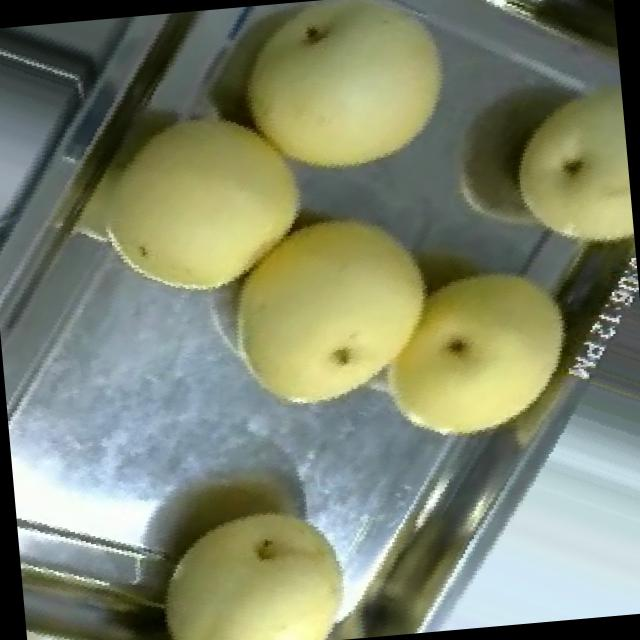Fruit: (200, 179, 457, 429), (74, 80, 336, 323), (212, 0, 485, 209), (356, 235, 598, 466), (126, 475, 369, 640), (484, 47, 637, 282)
